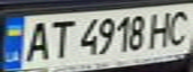1: (115, 14, 133, 54)
4: (75, 15, 100, 56)
8: (127, 11, 151, 52)
9: (93, 15, 118, 56)
A: (18, 18, 54, 62)
C: (163, 7, 193, 47)
H: (145, 8, 178, 50)
T: (45, 17, 75, 60)
